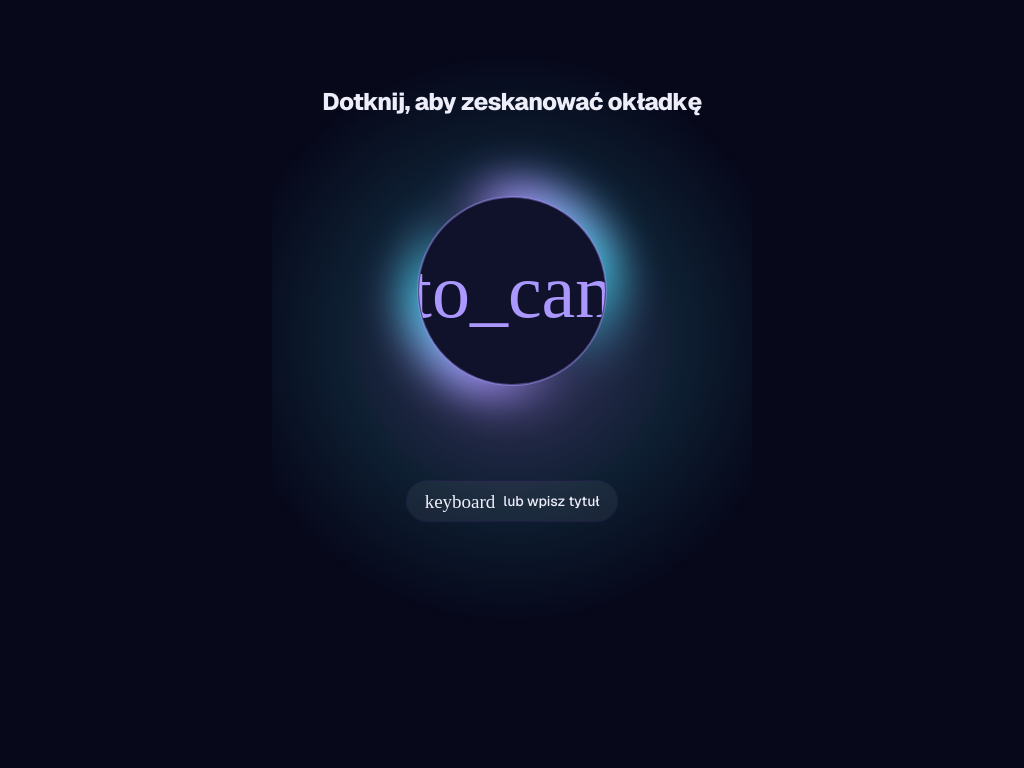
AddScreen › searches only the chosen category
Click the button "lub wpisz tytuł" at (512, 501), box left=406, top=480, right=618, bottom=522
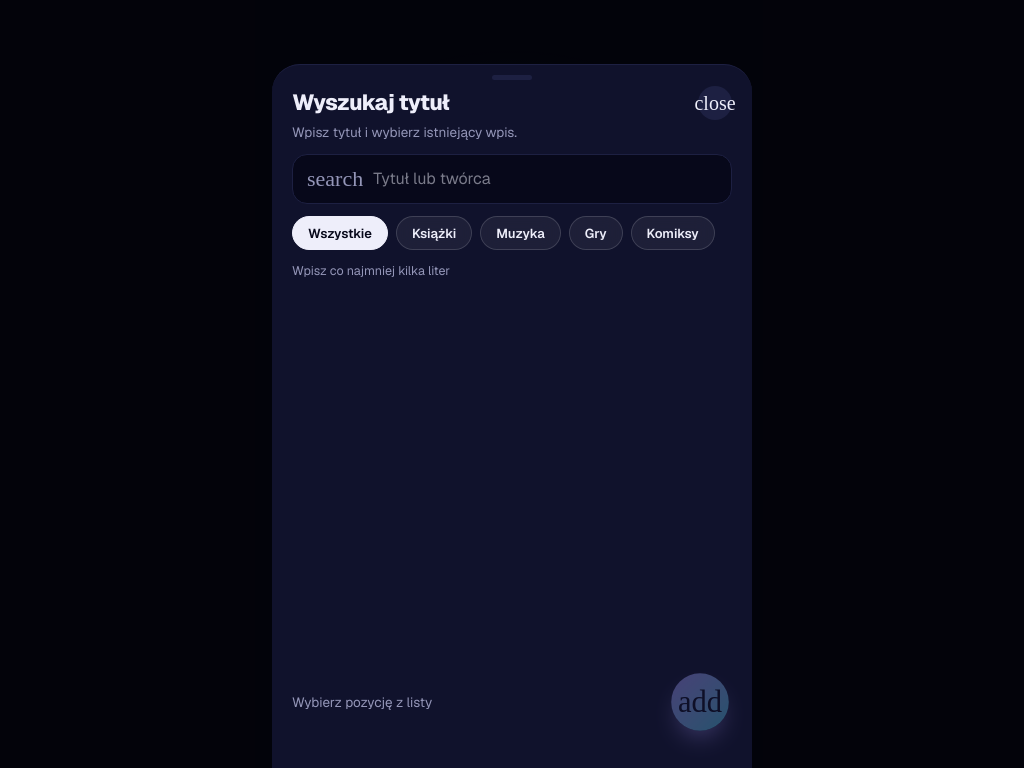
Click the tab "Gry" at (596, 233), box left=569, top=216, right=623, bottom=250
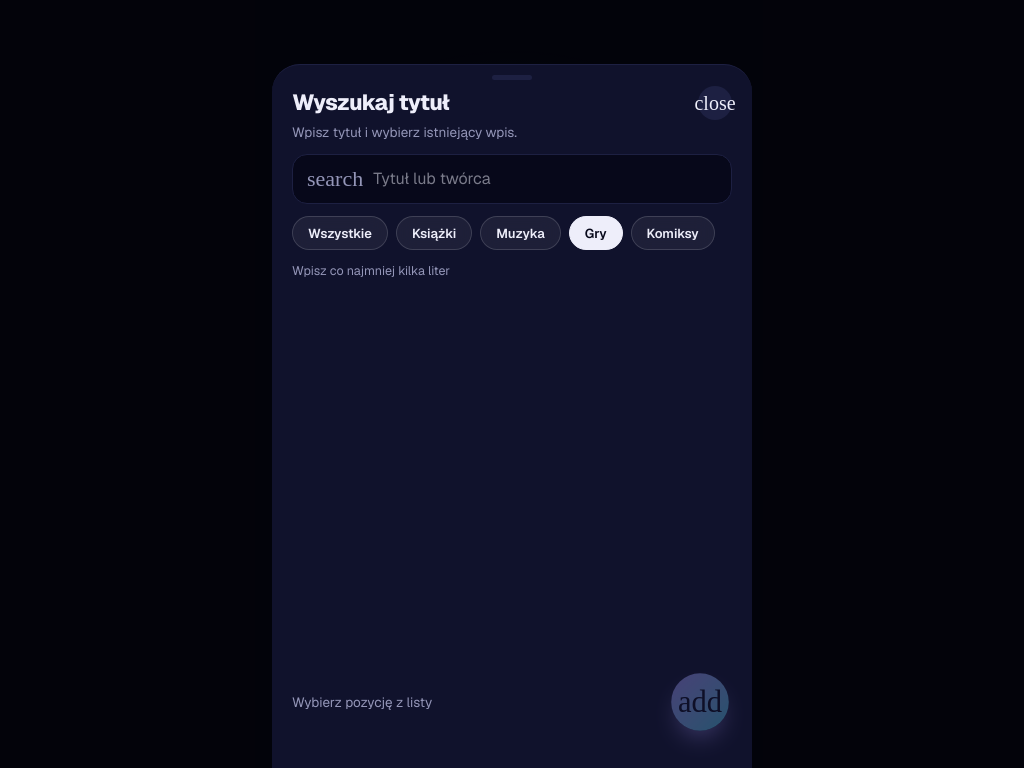
Type "gra" into the search field labelled "Tytuł lub twórca" at (545, 179), box left=373, top=167, right=717, bottom=191
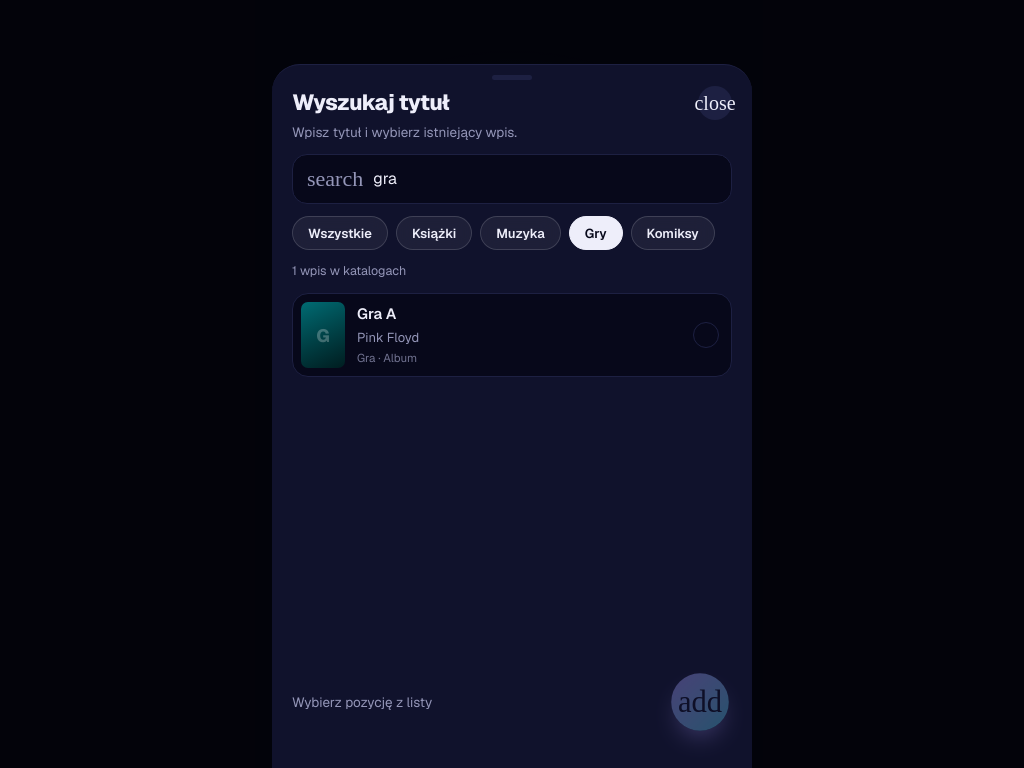
Expected: the button "G Gra A Pink Floyd Gra · Album" is shown, left=292, top=293, right=732, bottom=377
